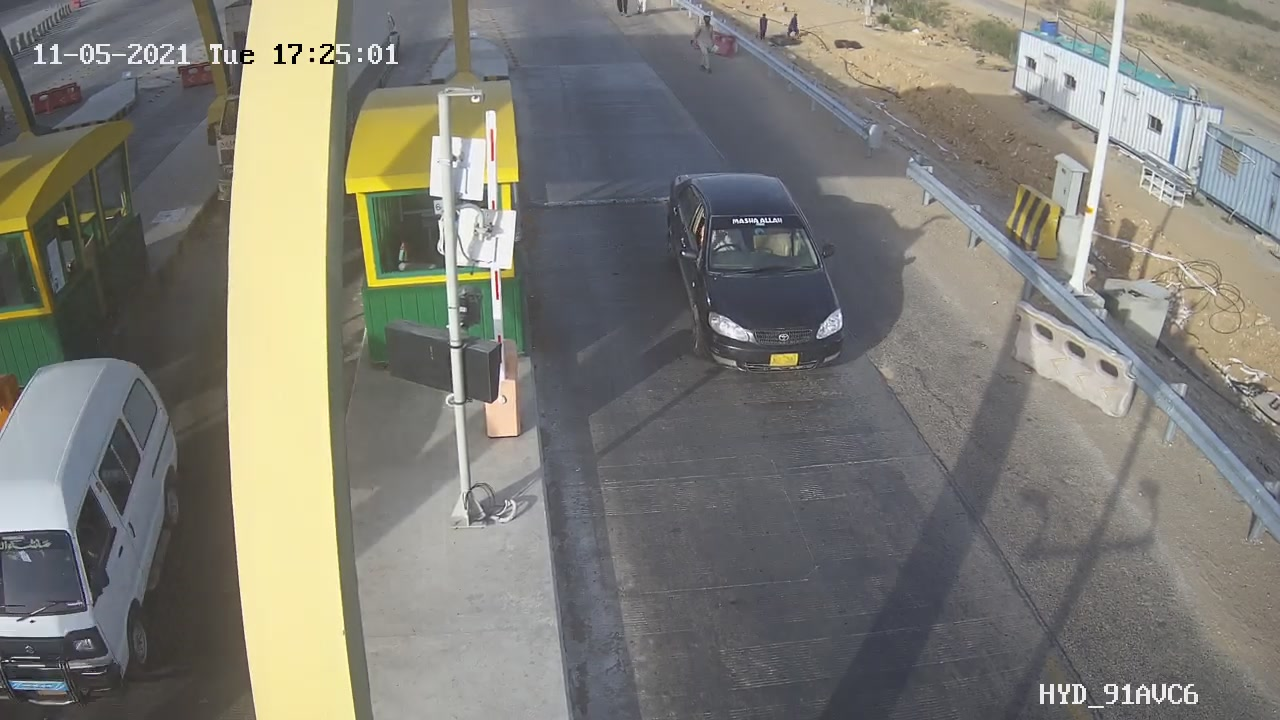F1: (646, 152, 874, 396)
